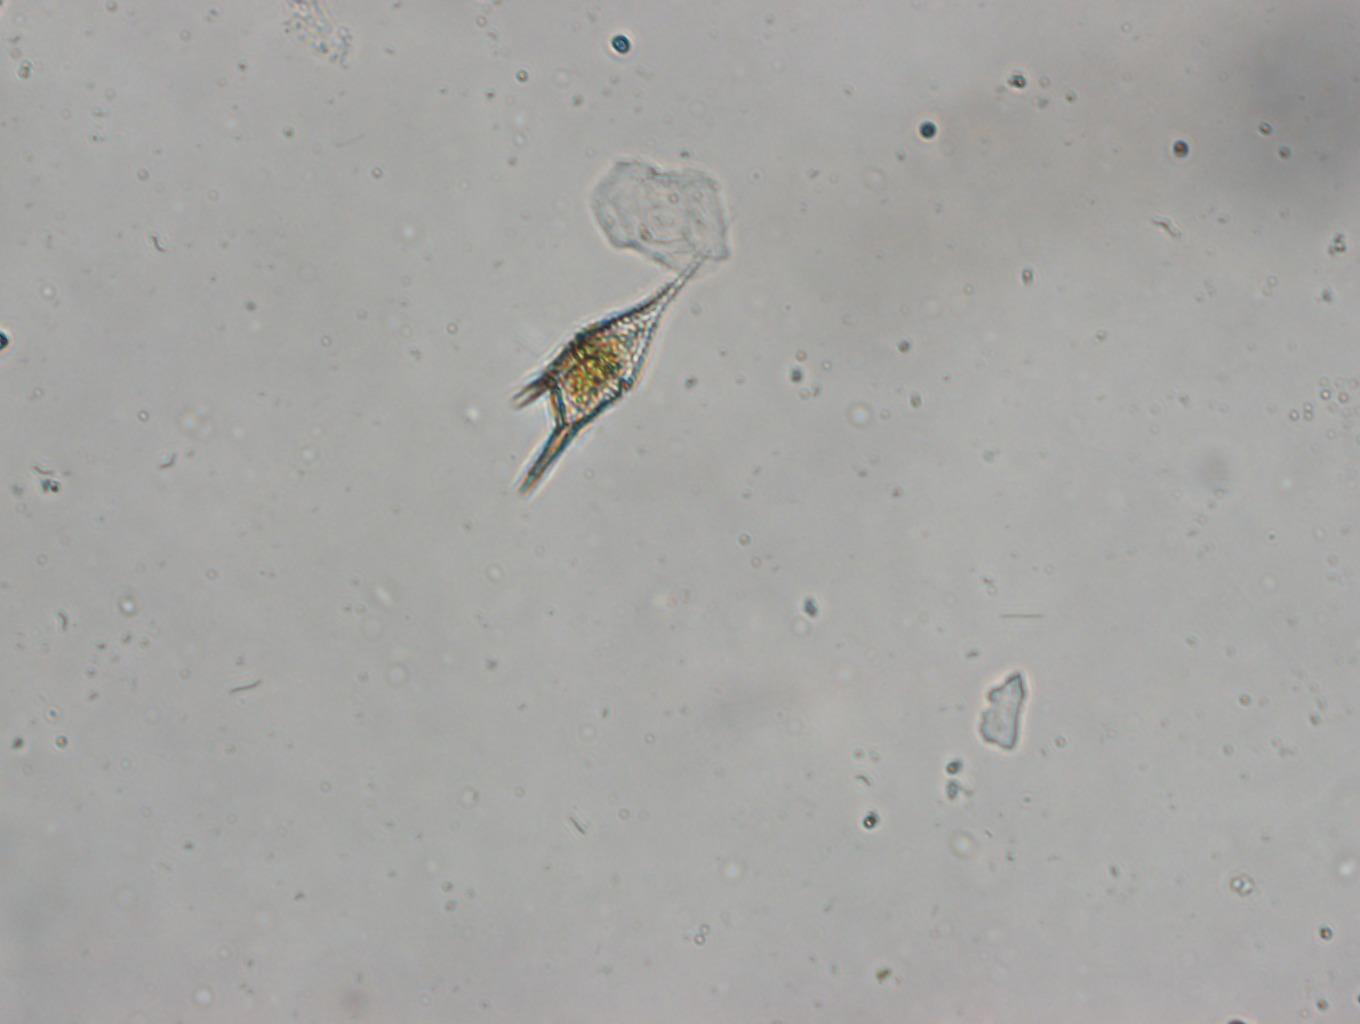ceratium furca: (501, 246, 698, 508)
